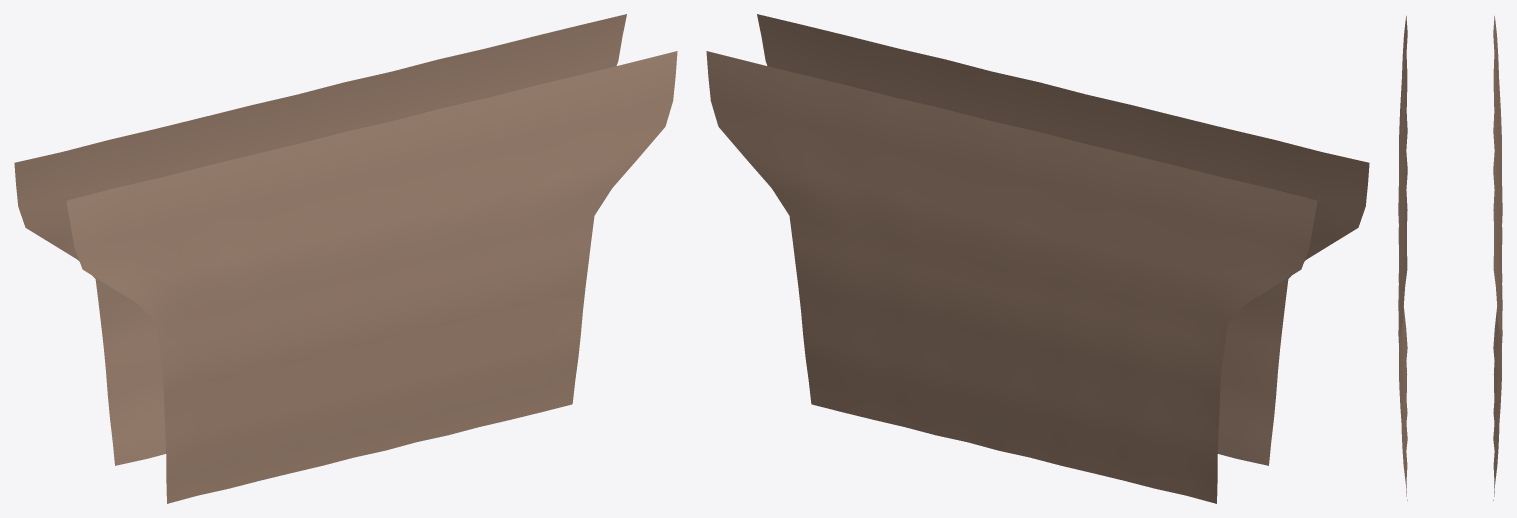
File: fallback.glb
3 renders of one model, left to right at view 1: azimuth 30°, elevation 25°; view 2: azimuth 150°, elevation 25°; view 3: azimuth 270°, elevation 25°, orthographic. The views are drawn at different scales.
Parts seen in each view (by area): view 1: simulation:clean:manual-tshirt-01.front, simulation:clean:manual-tshirt-01.back; view 2: simulation:clean:manual-tshirt-01.back, simulation:clean:manual-tshirt-01.front; view 3: simulation:clean:manual-tshirt-01.front, simulation:clean:manual-tshirt-01.back.
Boxes of the visible parts, bbox=[...] form: simulation:clean:manual-tshirt-01.front: bbox=[66, 51, 677, 503]; simulation:clean:manual-tshirt-01.back: bbox=[14, 14, 626, 465]; simulation:clean:manual-tshirt-01.back: bbox=[706, 51, 1317, 503]; simulation:clean:manual-tshirt-01.front: bbox=[757, 14, 1369, 465]; simulation:clean:manual-tshirt-01.front: bbox=[1398, 16, 1407, 500]; simulation:clean:manual-tshirt-01.back: bbox=[1493, 16, 1502, 500].
Size of the model in its own units: 1.45 by 0.74 by 0.2508.
